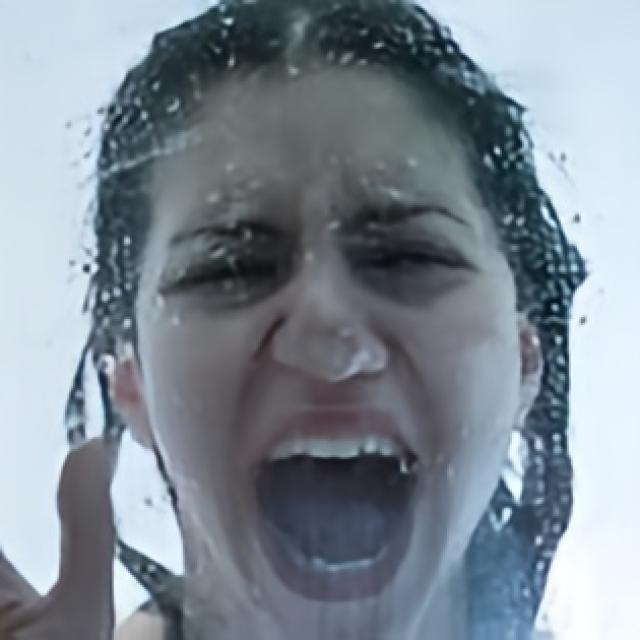anger: (134, 65, 523, 640)
